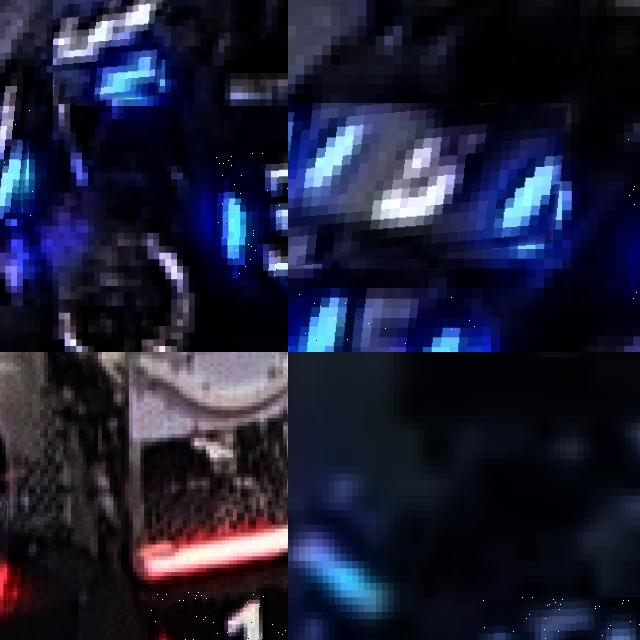B3: (52, 0, 171, 106), (212, 152, 288, 286), (0, 85, 35, 219)
B5: (288, 103, 571, 268), (288, 288, 482, 352), (482, 597, 640, 640)
R1: (148, 591, 288, 640)
